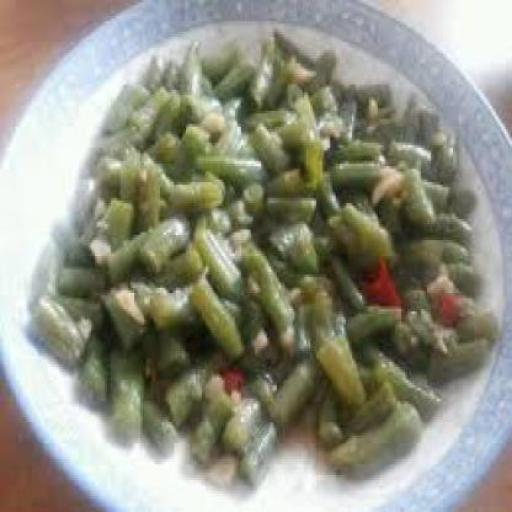biodegradable: (26, 222, 492, 443), (67, 160, 475, 336), (98, 26, 466, 182), (328, 396, 419, 472), (162, 346, 220, 420), (106, 335, 144, 433), (190, 377, 232, 460), (28, 285, 77, 356), (264, 353, 318, 415), (74, 324, 109, 412), (140, 393, 182, 460), (326, 338, 362, 409), (235, 412, 271, 483), (213, 40, 261, 92), (344, 380, 393, 428), (222, 393, 257, 456), (360, 254, 398, 300), (423, 129, 457, 180), (174, 34, 201, 95), (245, 50, 273, 106), (198, 34, 233, 76), (413, 97, 439, 143), (442, 177, 474, 211), (332, 82, 352, 135), (352, 82, 385, 111), (432, 287, 458, 322), (306, 45, 330, 79), (395, 87, 421, 116), (270, 24, 296, 50), (308, 79, 332, 106), (364, 90, 380, 129), (221, 362, 243, 388)
